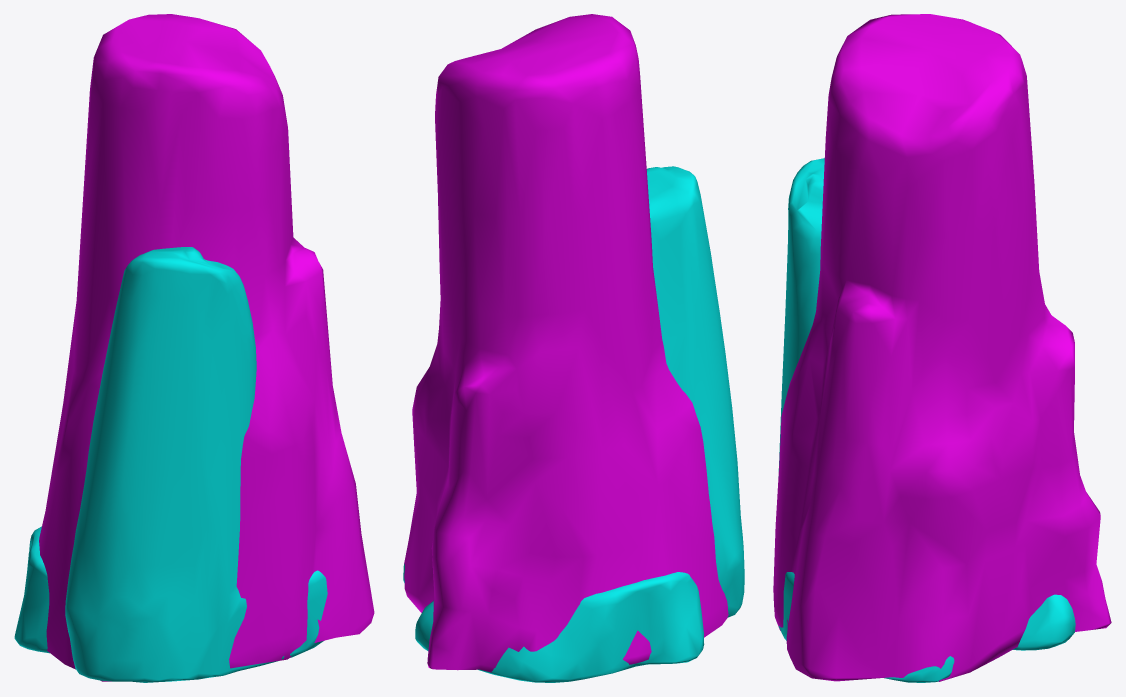
The model's file is Rocks.fbx.
The picture shows the model from 3 angles, left to right: view 1: azimuth 30°, elevation 25°; view 2: azimuth 150°, elevation 25°; view 3: azimuth 270°, elevation 25°; orthographic projection.
Parts seen in each view (by area): view 1: RockE, RockD; view 2: RockE, RockD; view 3: RockE, RockD.
Part boxes in pixels (x1,y1,x2,y2): RockE: [39, 14, 374, 681]; RockD: [14, 247, 327, 682]; RockE: [404, 14, 728, 672]; RockD: [403, 166, 744, 682]; RockE: [773, 14, 1111, 681]; RockD: [778, 158, 1075, 682].
Size of the model in its own units: 431 by 801 by 425.
